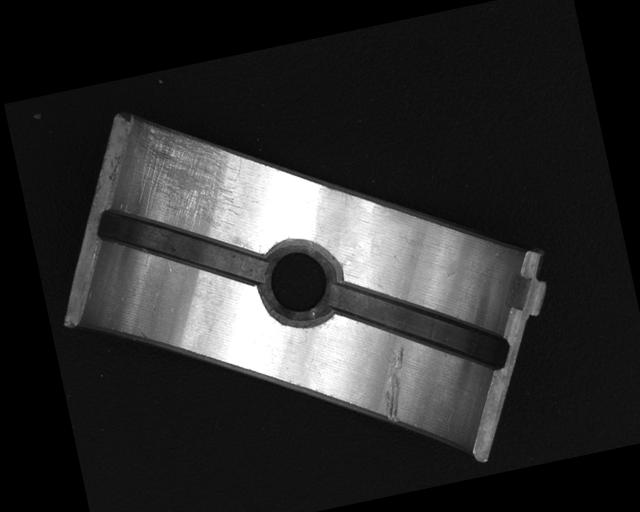gap: (330, 250, 511, 399), (91, 180, 271, 314)
hole: (253, 231, 344, 330)
nick: (370, 344, 421, 425)
scratch: (122, 112, 252, 246)
